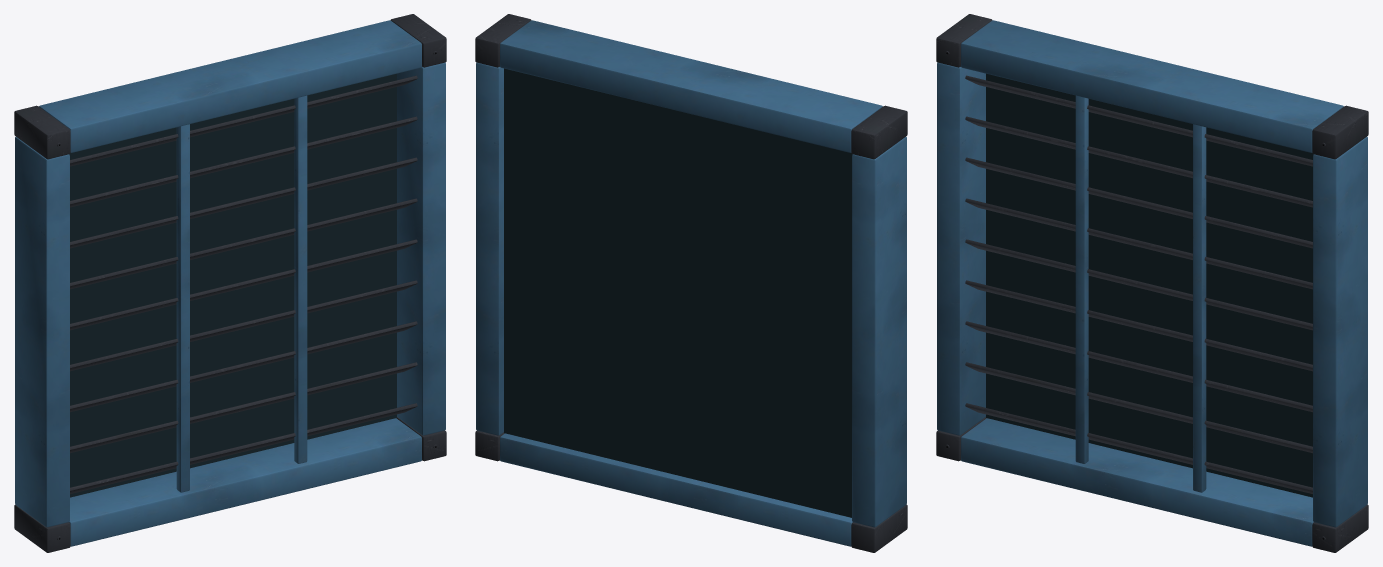
Rendered from window_metal.glb.
3 views of the same model, side by side, from view 1: azimuth 30°, elevation 25°; view 2: azimuth 150°, elevation 25°; view 3: azimuth 330°, elevation 25° (orthographic).
Parts seen in each view (by area): view 1: WindowMetalMesh; view 2: WindowMetalMesh; view 3: WindowMetalMesh.
Part boxes in pixels (bbox=[...]): WindowMetalMesh: bbox=[14, 14, 446, 552]; WindowMetalMesh: bbox=[475, 14, 907, 552]; WindowMetalMesh: bbox=[936, 14, 1368, 552].
Size of the model in its own units: 1 by 1 by 0.1478.
Materials: 4 (2 with a texture image).
